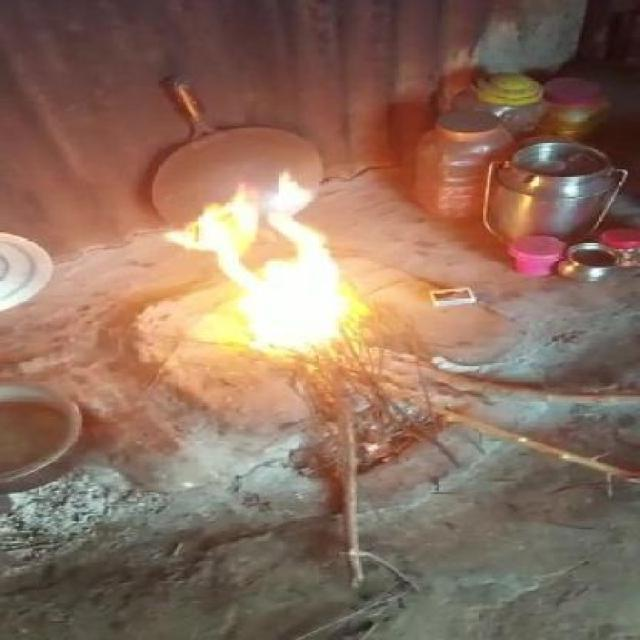smoke: (159, 168, 371, 358)
